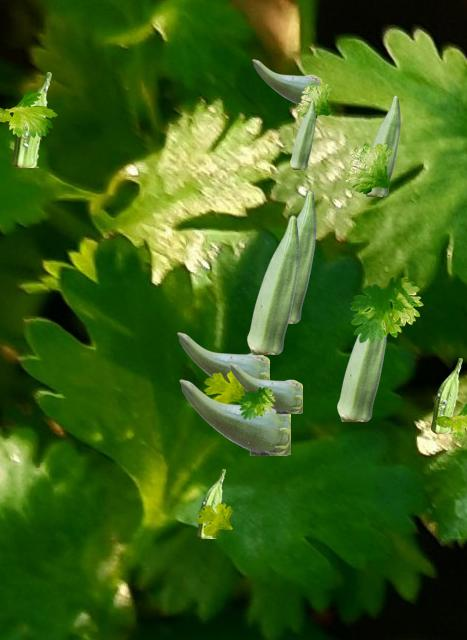okra: (179, 379, 289, 454), (247, 215, 298, 353), (177, 332, 268, 381), (337, 335, 386, 420), (12, 72, 50, 166), (229, 363, 301, 412), (364, 95, 399, 195), (289, 190, 315, 322), (252, 59, 320, 105), (431, 358, 461, 432), (197, 469, 224, 537), (290, 100, 314, 168)
